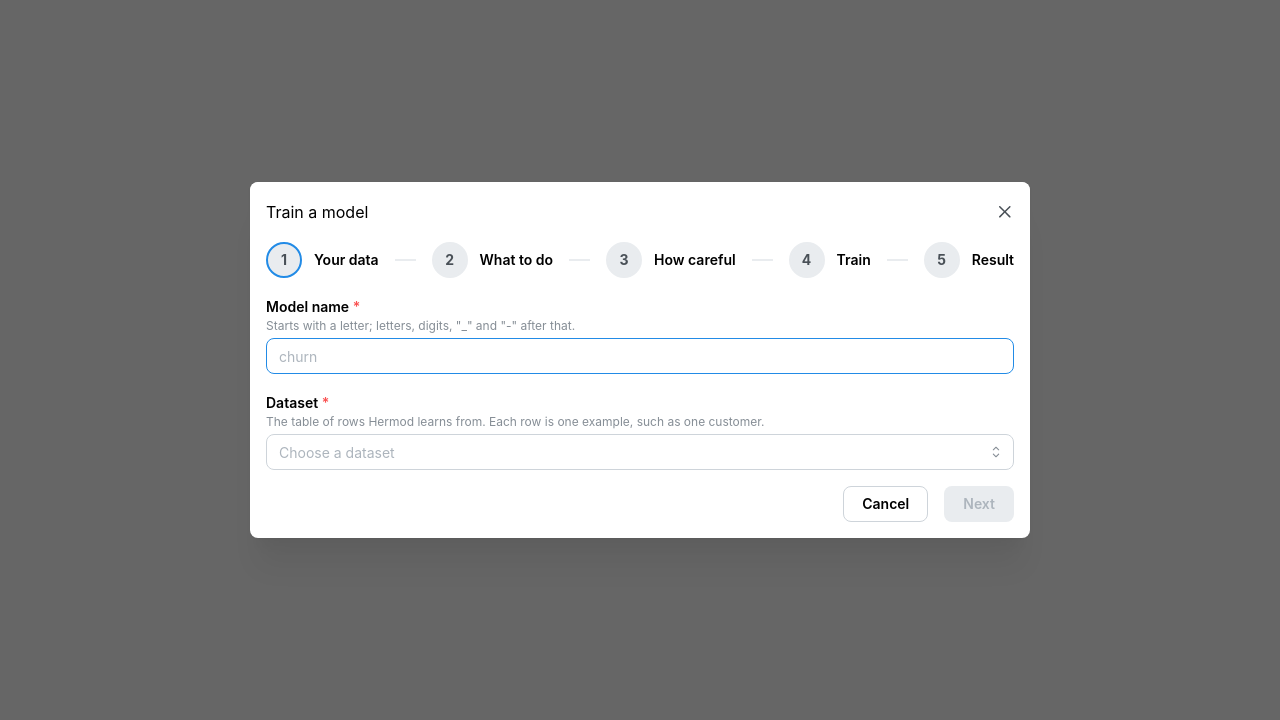
Test: Training a recommendation scenario in the guided dialog › falls back to the one-table recommender on a server without scenarios
Type "recs" into the field labelled "Model name *" at (640, 356), box [266,338,1014,374]
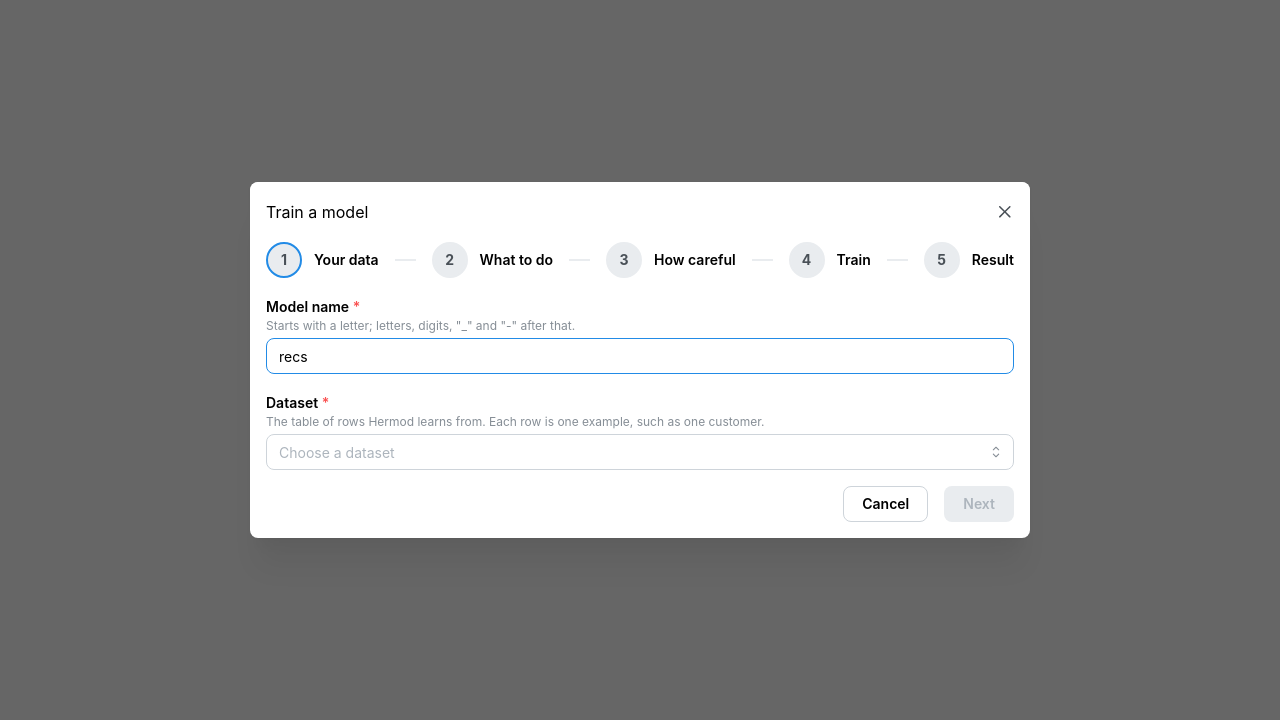
Click the dropdown labelled "Dataset *" at (640, 452), box [266,434,1014,470]
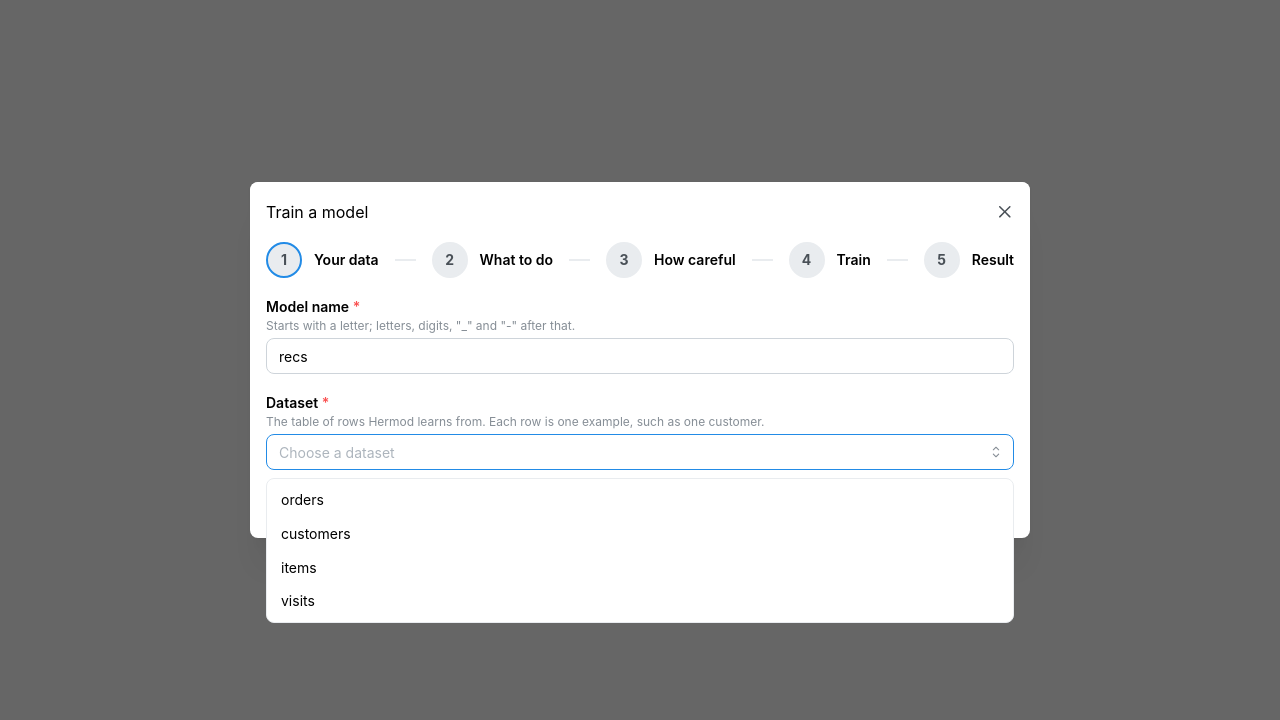
Click the option "orders" at (302, 500), box [281,491,324,508]
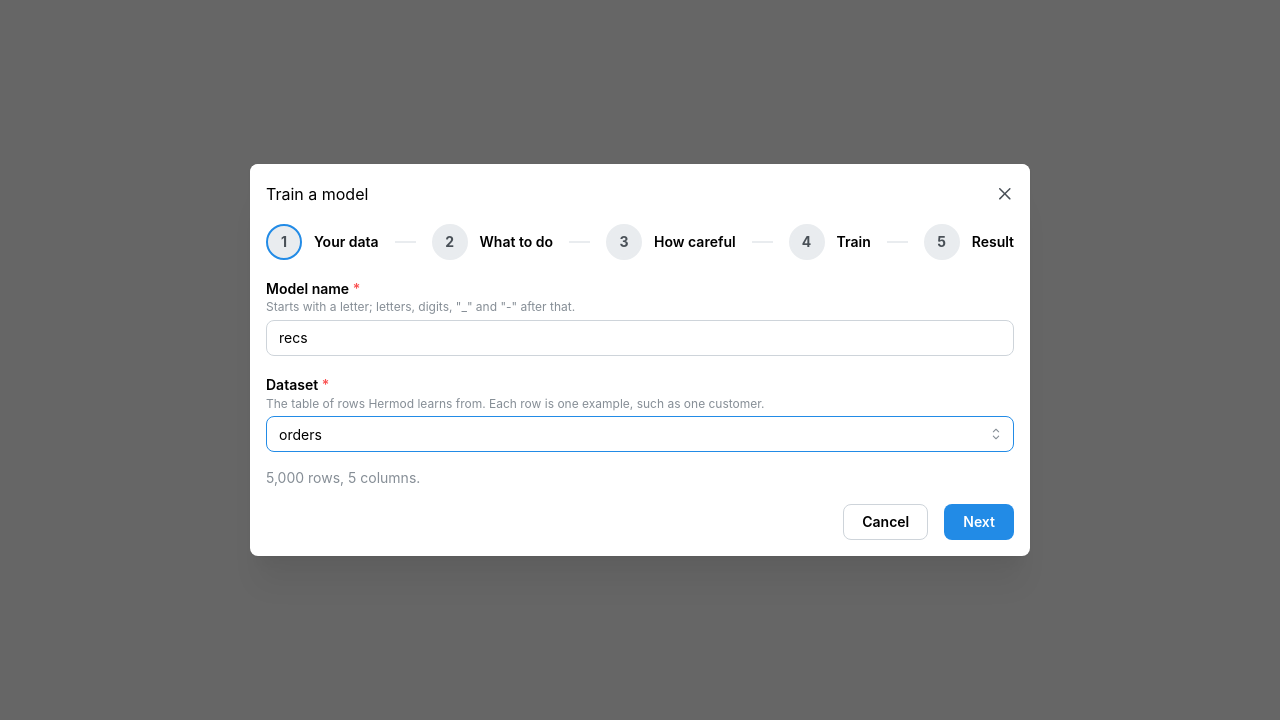
Click the button "Next" at (979, 522), box [944,504,1014,540]
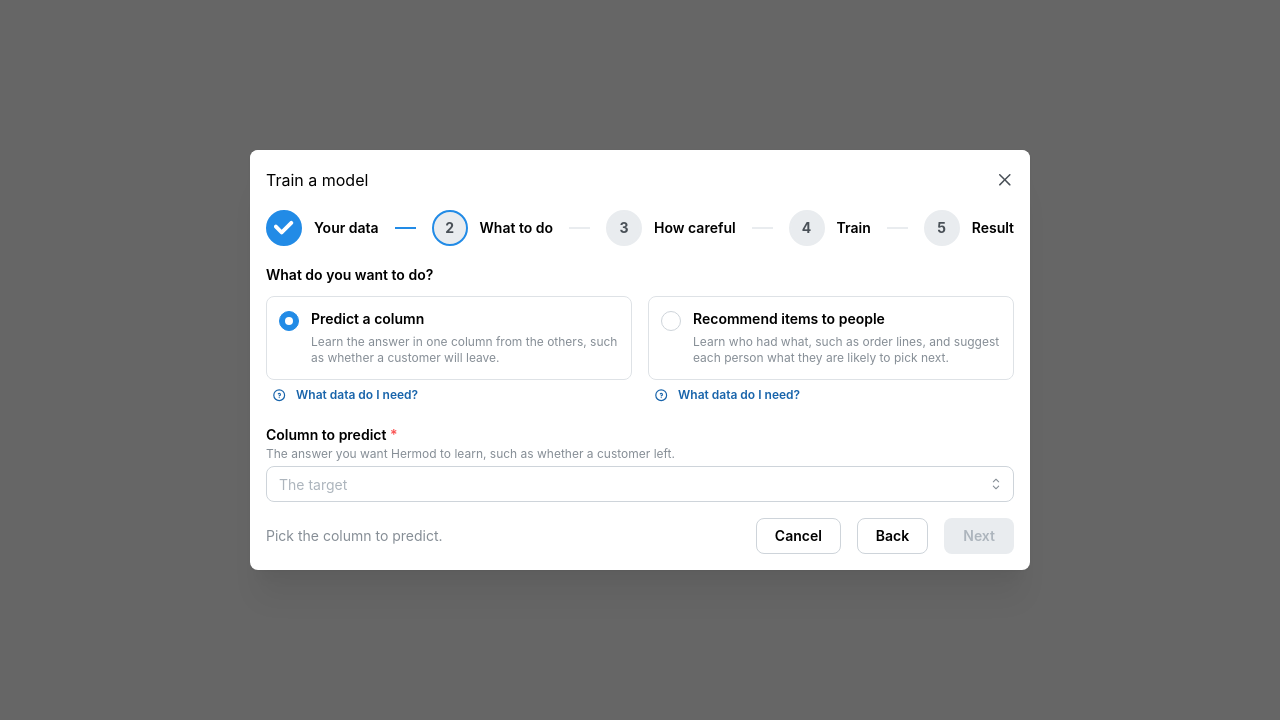
Click the radio button labelled "Recommend items to people" at (831, 338), box [648,296,1014,380]
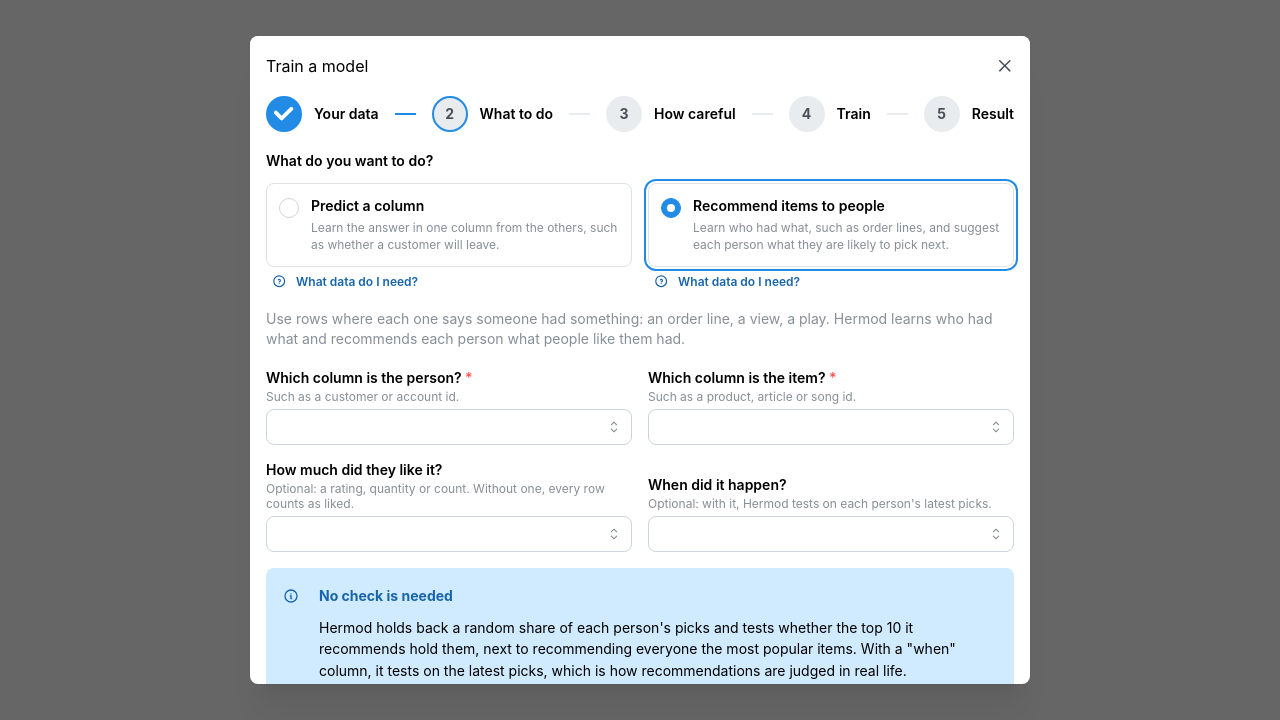
expect the dropdown labelled "Which column is the person? *" is shown: met, box [266,410,632,446]
